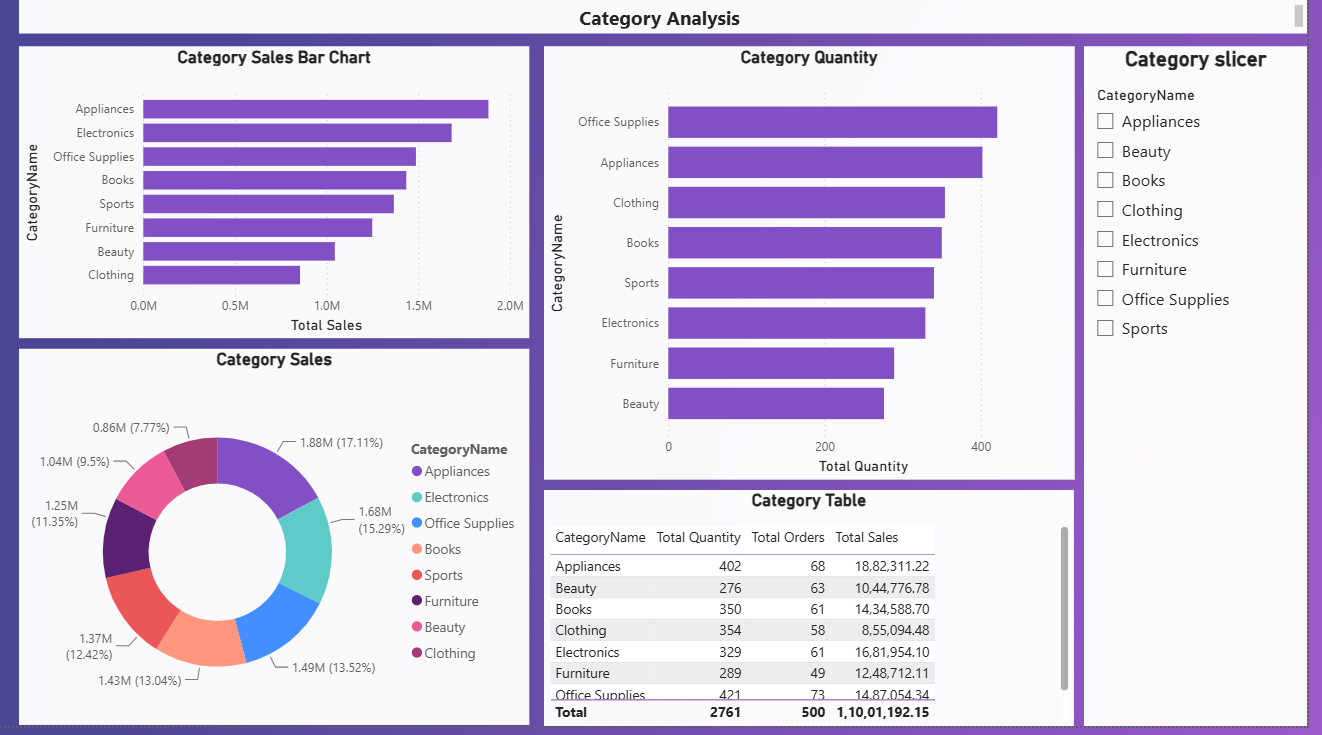

Layout of this report page (visuals, bound fields, positions):
{"tool":"powerbi","page":{"name":"Category Analysis","canvas":[1280,720],"ordinal":2},"visuals":[{"type":"donutChart","title":"Category Sales","fields":{"Category":["Categories.CategoryName"],"Y":["Orders.Total Sales"]},"box":[19.2,351.3,499.5,367.8],"z":0},{"type":"clusteredBarChart","title":"Category Sales Bar Chart","fields":{"Category":["Categories.CategoryName"],"Y":["Orders.Total Sales"]},"box":[19.2,54.9,499.5,285.4],"z":1000},{"type":"barChart","title":"Category Quantity","fields":{"Category":["Categories.CategoryName"],"Y":["Orders.Total Quantity"]},"box":[533.2,55,519,424],"z":2000},{"type":"tableEx","title":"Category Table","fields":{"Values":["Categories.CategoryName","Orders.Total Quantity","Orders.Total Orders","Orders.Total Sales"]},"box":[533.2,489.1,518.5,231.1],"z":3000},{"type":"slicer","title":"Category slicer","fields":{"Values":["Categories.CategoryName"]},"box":[1061.4,55,218.9,665.2],"z":4000},{"type":"textbox","box":[19.2,9.6,1261.1,32.9],"z":4001}]}

Visuals, with their boxes in screenshot pixels (x1, y1, x2, y2), scaled from the page's 1280x720 canvas onto the 1322x735 screenshot:
"Category Sales" donutChart: 20:359:536:734
"Category Sales Bar Chart" clusteredBarChart: 20:56:536:347
"Category Quantity" barChart: 551:56:1087:489
"Category Table" tableEx: 551:499:1086:734
"Category slicer" slicer: 1096:56:1321:734
textbox: 20:10:1321:43
